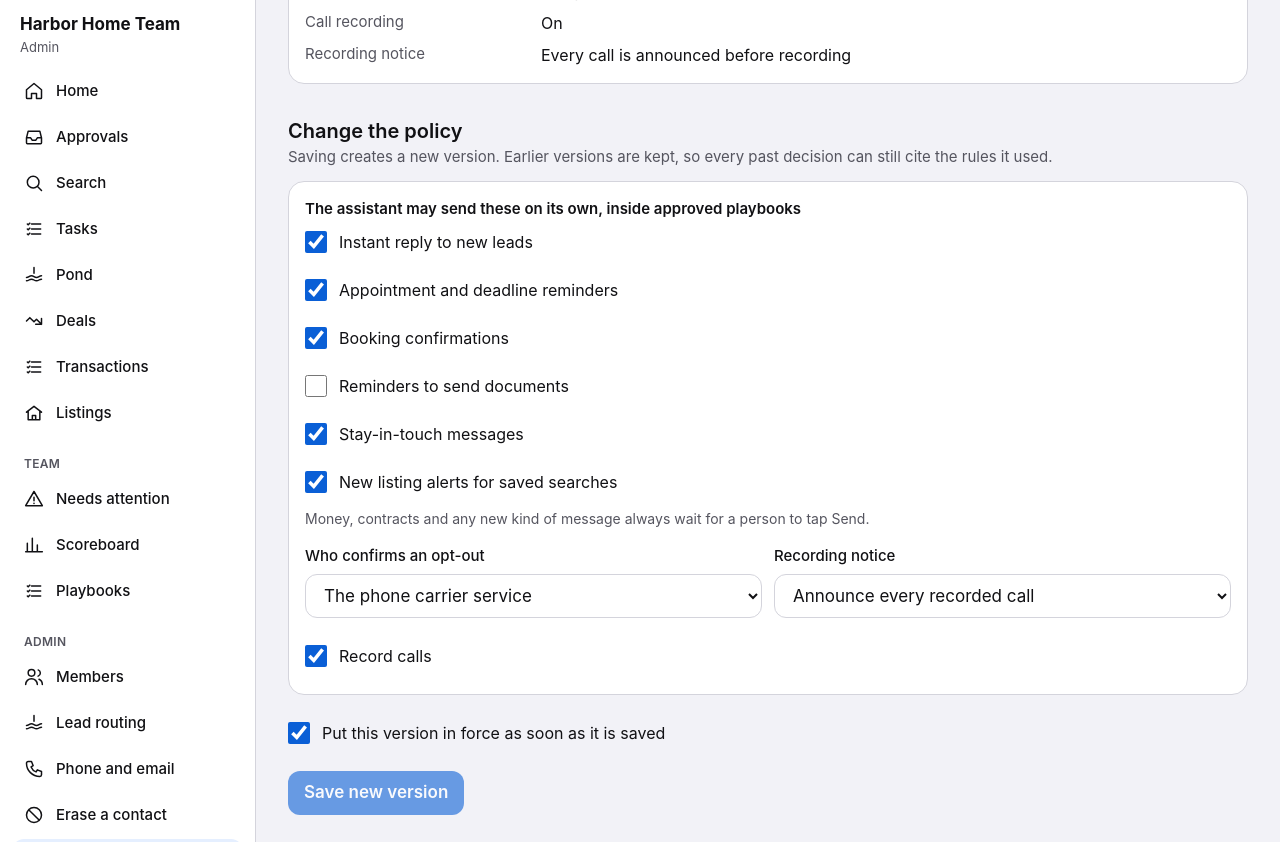
Test case: Compliance policy › a stricter change needs no attestation and sends only the changed field
The image size is (1280, 842).
(page scrolled)
Click the checkbox labelled "Stay-in-touch messages" at (316,434), box [305,423,327,445]
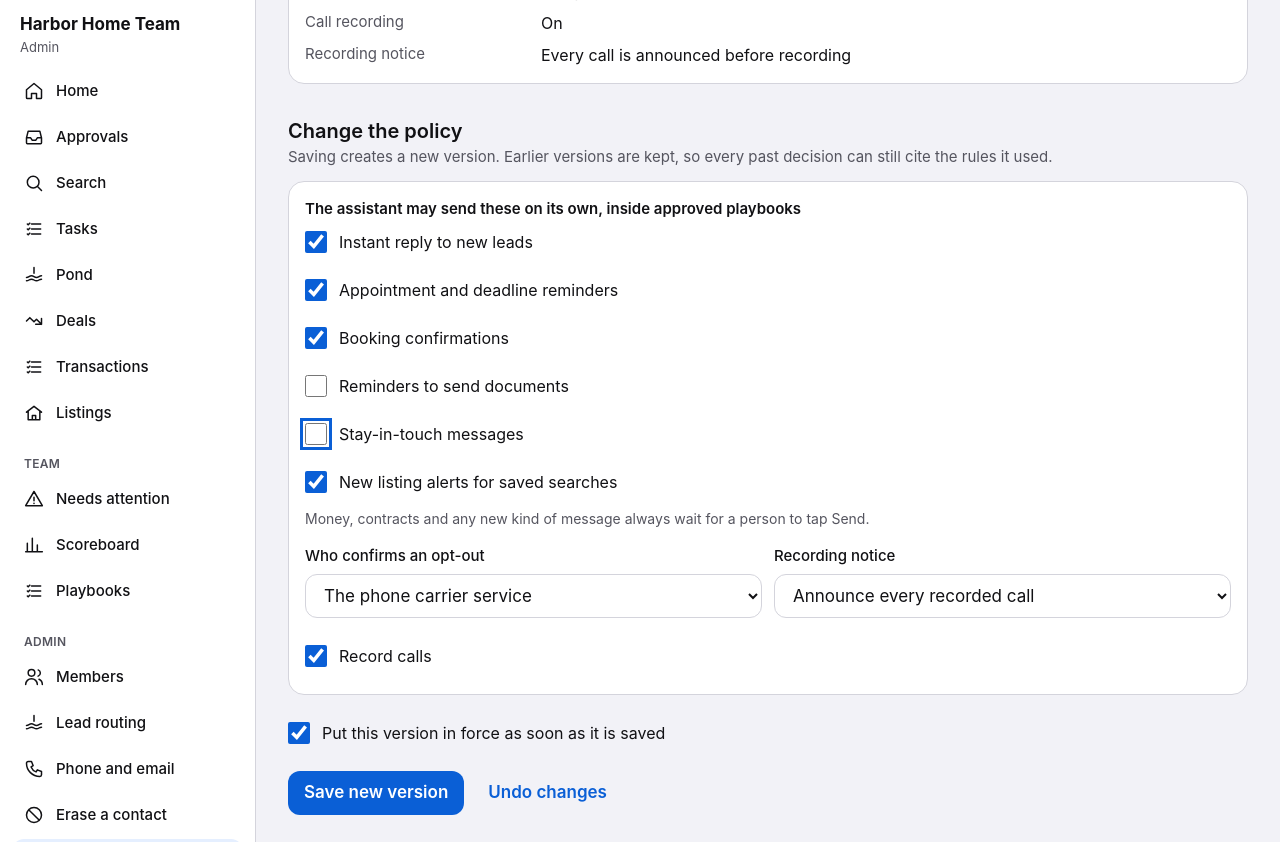
Click the button "Save new version" at (376,792), box [288,770,464,814]
(page scrolled)
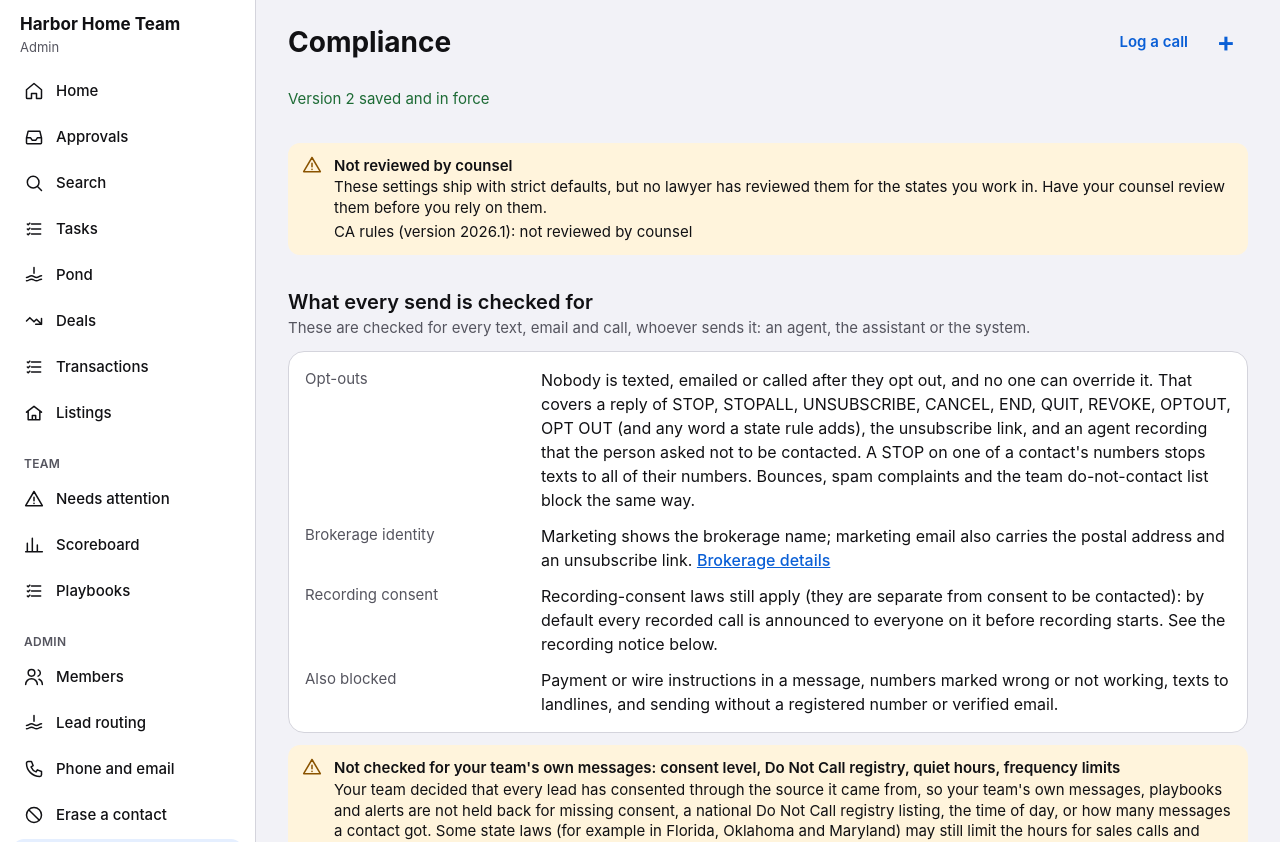
Now the text "Version 2 saved and in force" is shown, box [288,89,490,108]
